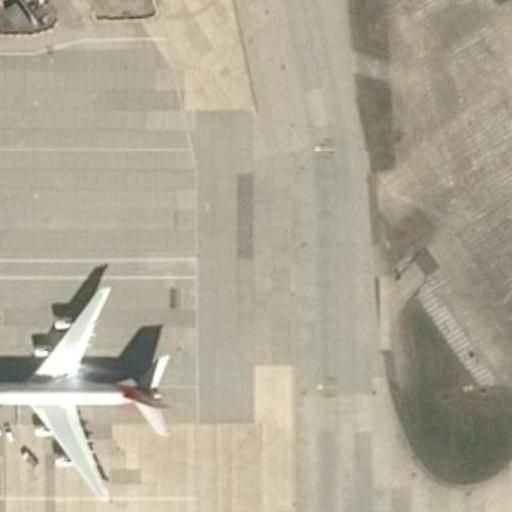Aircraft: (0, 271, 181, 501)
